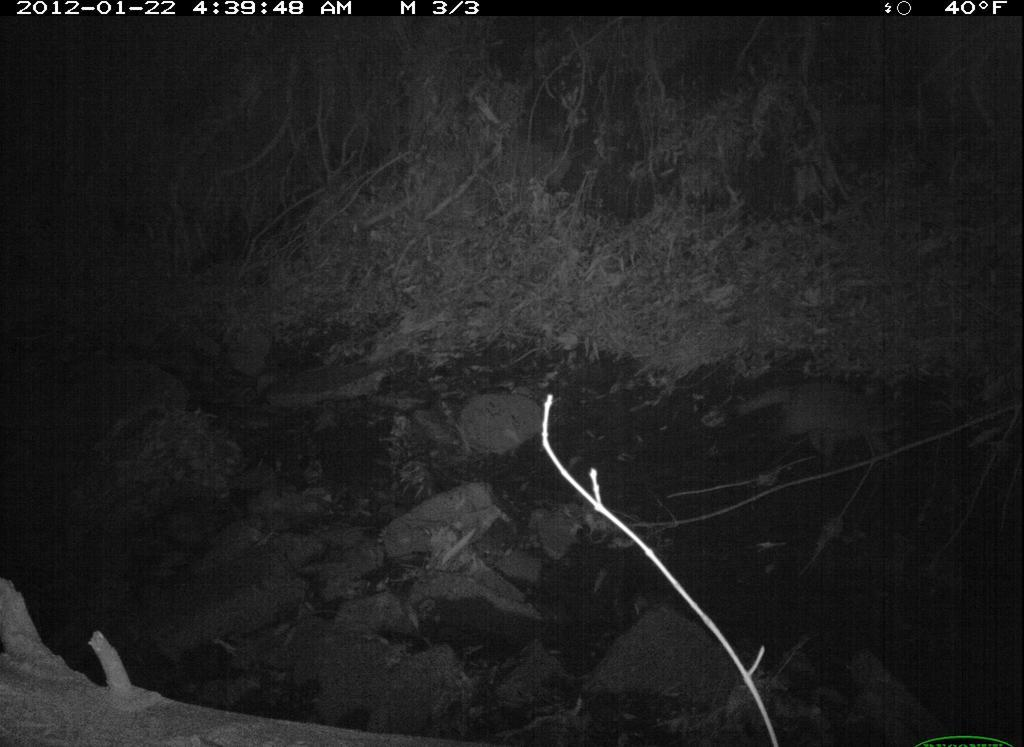raccoon: (730, 346, 934, 498)
